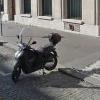Motorcycle: (10, 27, 71, 88)
